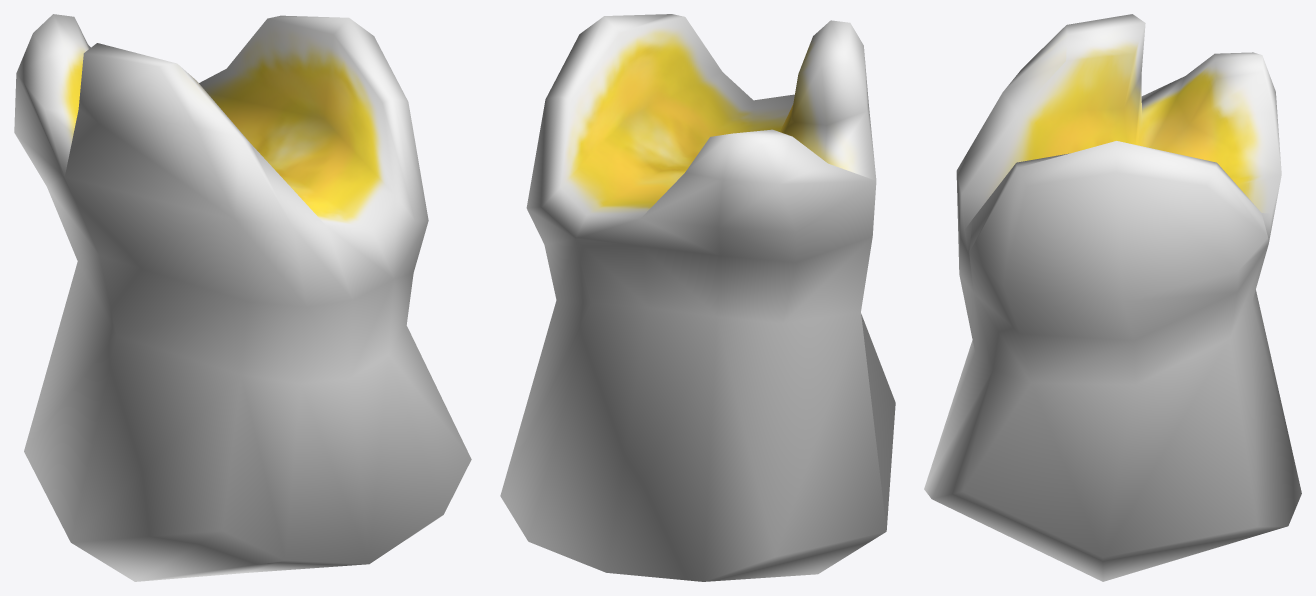
File: asset_patlamis_misir_4.fbx
The picture shows the model from 3 angles, left to right: view 1: azimuth 30°, elevation 25°; view 2: azimuth 150°, elevation 25°; view 3: azimuth 270°, elevation 25°; orthographic projection. The views are drawn at different scales.
Parts seen in each view (by area): view 1: patlamis_misir_4; view 2: patlamis_misir_4; view 3: patlamis_misir_4.
Part boxes in pixels (<box>): patlamis_misir_4: <box>14,14,471,581</box>; patlamis_misir_4: <box>500,14,895,581</box>; patlamis_misir_4: <box>924,14,1301,581</box>.
Size of the model in its own units: 57.1 by 88.96 by 63.21.
1 material, 1 textured.
